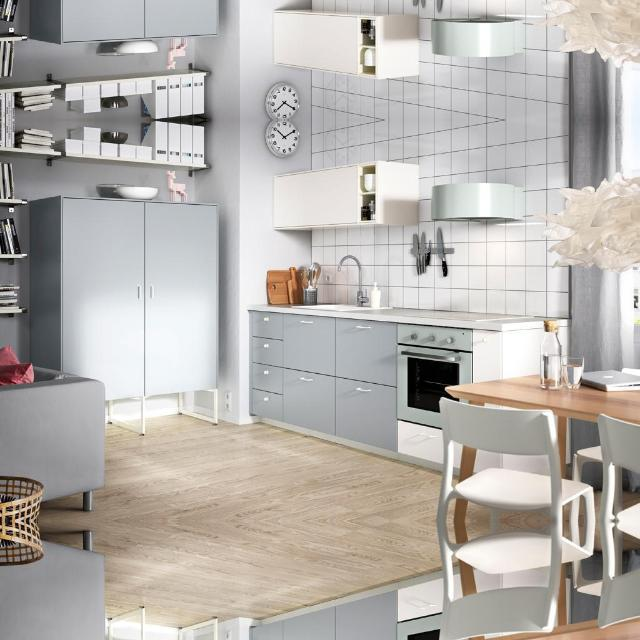obstacle: (34, 182, 228, 428), (436, 328, 640, 522), (436, 520, 640, 640), (0, 359, 108, 521), (0, 521, 108, 640), (34, 0, 227, 56), (34, 613, 227, 640)
